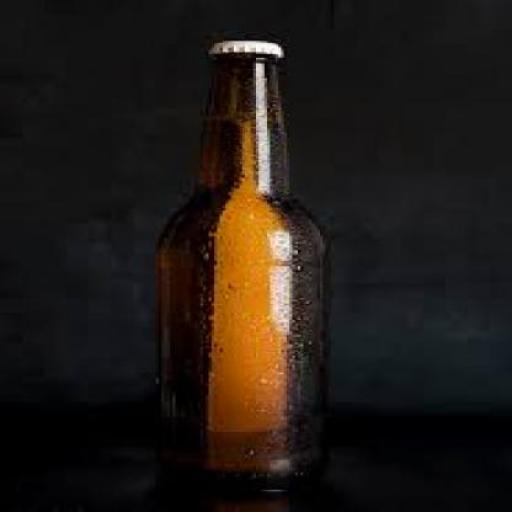glass: (159, 52, 331, 490)
metal: (217, 40, 286, 54)
